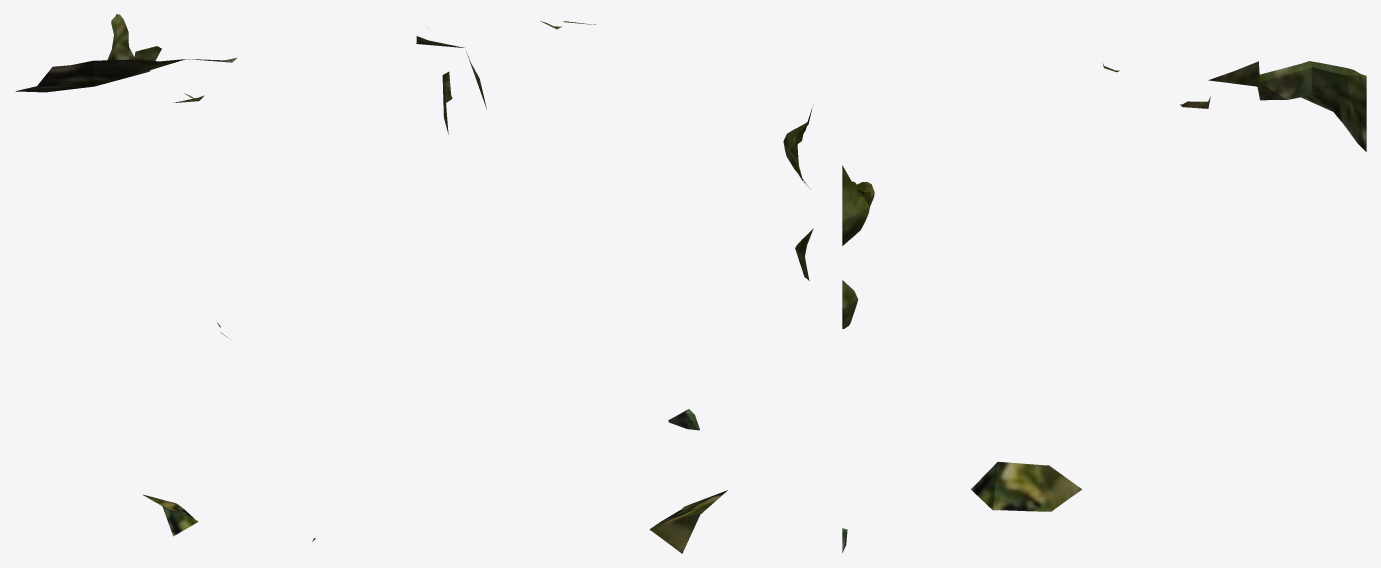
3 renders of one model, left to right at view 1: azimuth 30°, elevation 25°; view 2: azimuth 150°, elevation 25°; view 3: azimuth 270°, elevation 25°, orthographic. The views are drawn at different scales.
Bounding box in the file's own units: 0.6841 × 1.67 × 1.67.
1 material, 1 textured.
